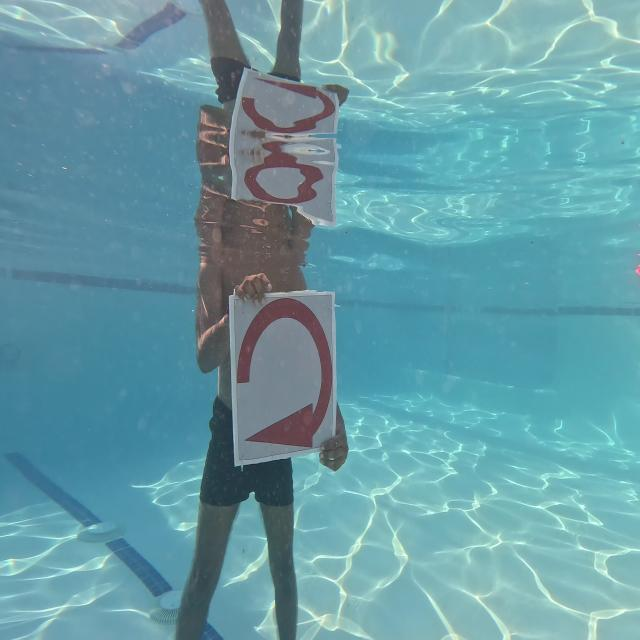red_side: (230, 290, 336, 460)
